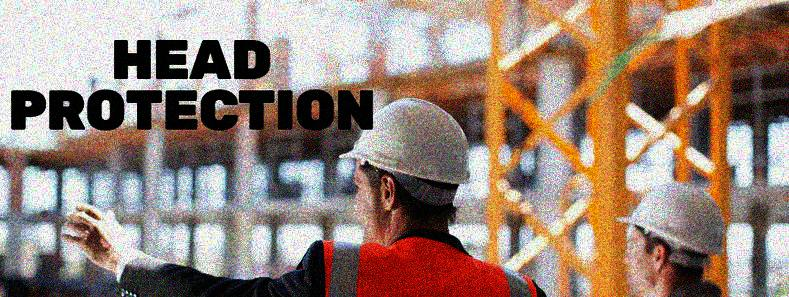helmet: (337, 97, 475, 249), (611, 177, 732, 297)
